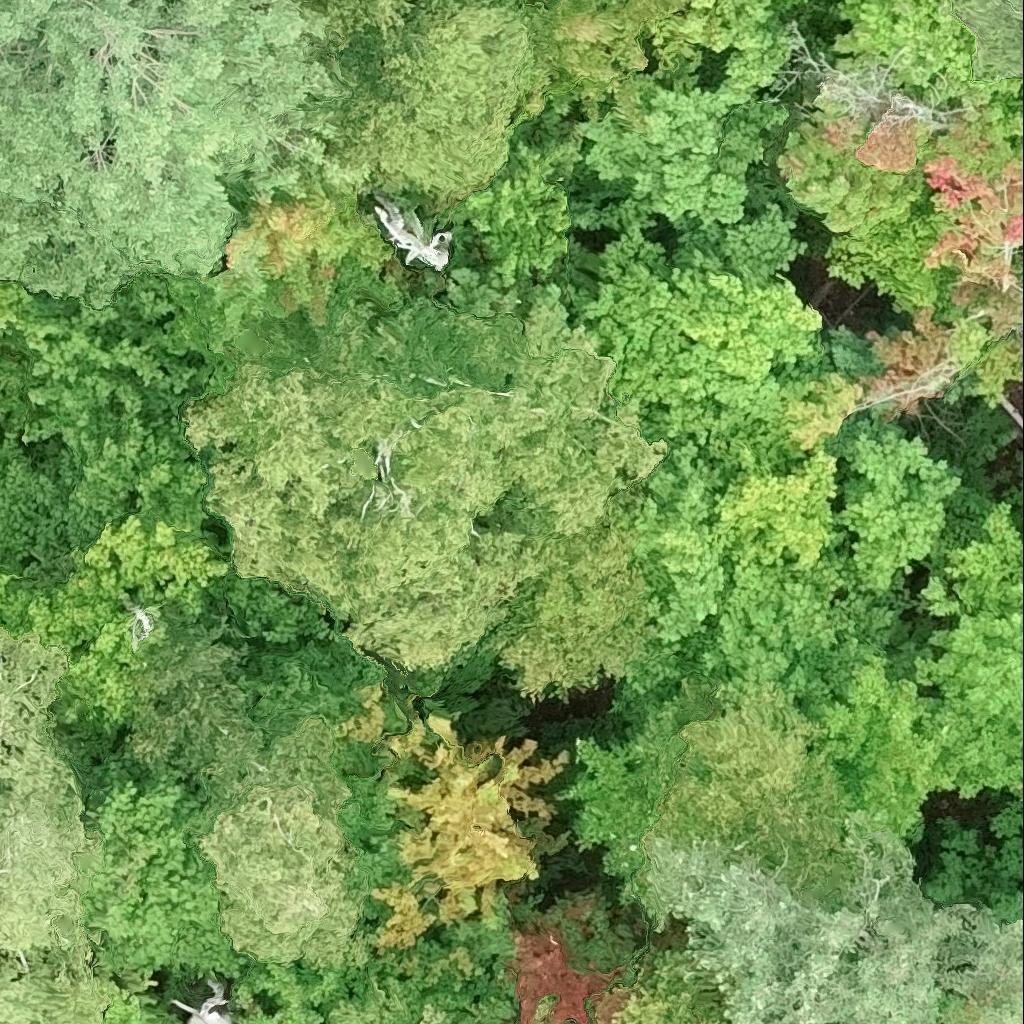crown: (181, 265, 673, 700), (616, 416, 965, 742), (0, 0, 368, 308), (128, 619, 375, 969), (556, 672, 887, 917), (646, 812, 1023, 1023), (783, 131, 1023, 450), (807, 489, 1023, 842), (574, 201, 834, 470), (332, 682, 573, 957), (778, 0, 1023, 237), (327, 0, 549, 204), (0, 625, 110, 1023), (74, 747, 247, 989), (0, 317, 142, 582), (572, 73, 791, 239), (234, 913, 522, 1023), (823, 188, 963, 321), (649, 0, 805, 94), (610, 944, 730, 1023), (953, 0, 1023, 83), (308, 0, 427, 45), (96, 962, 169, 1023), (0, 274, 62, 344), (990, 800, 1023, 880), (171, 982, 233, 1023), (527, 993, 560, 1023), (1010, 784, 1023, 812), (776, 0, 810, 5)
